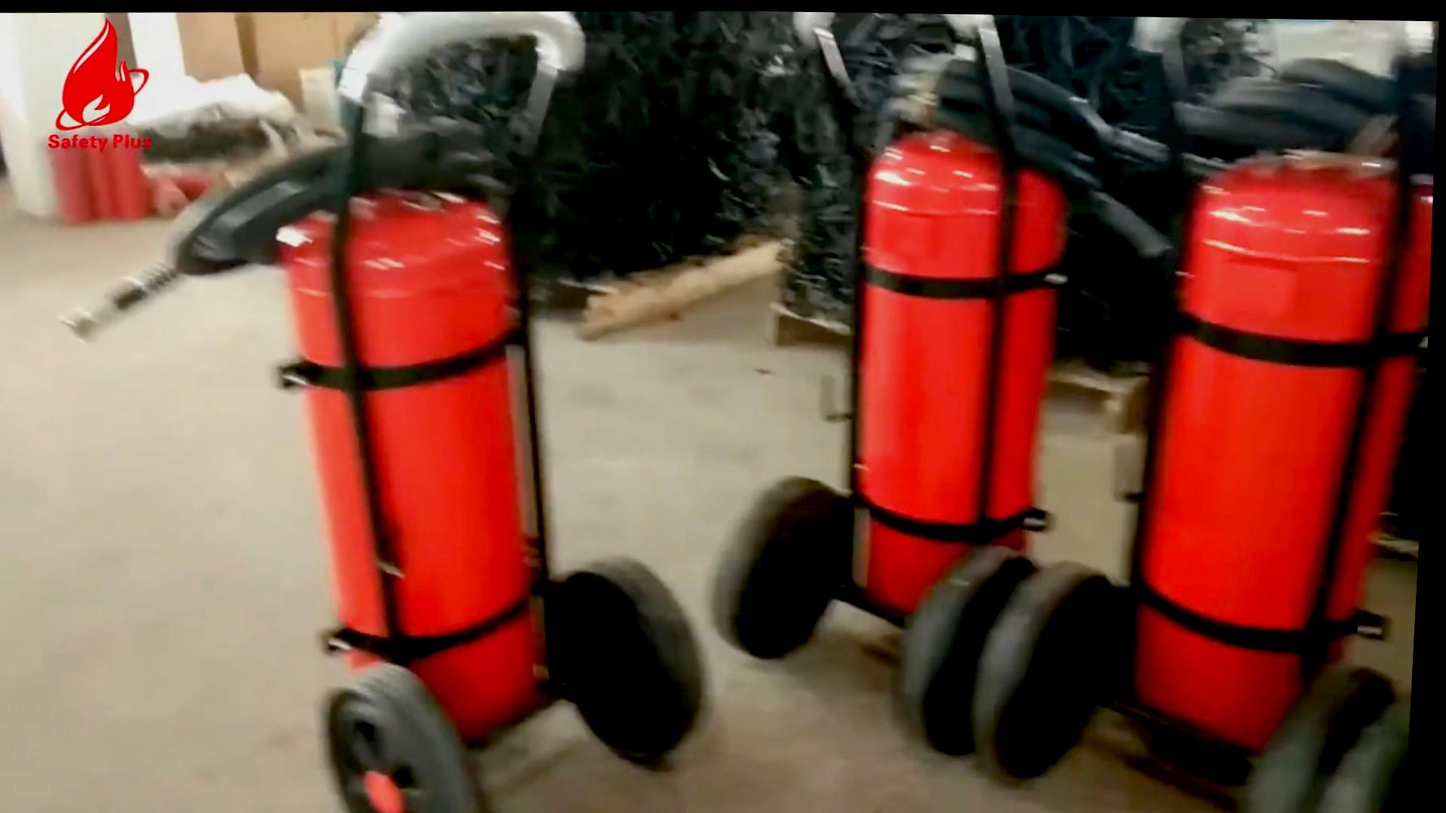FireExtinguisher: (186, 123, 626, 748), (1113, 123, 1442, 770), (826, 92, 1074, 643)
